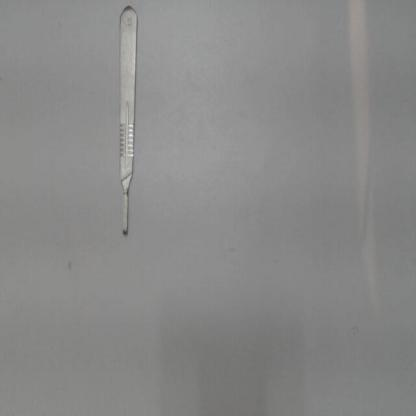No.4 BP Handle: (113, 5, 146, 244)
